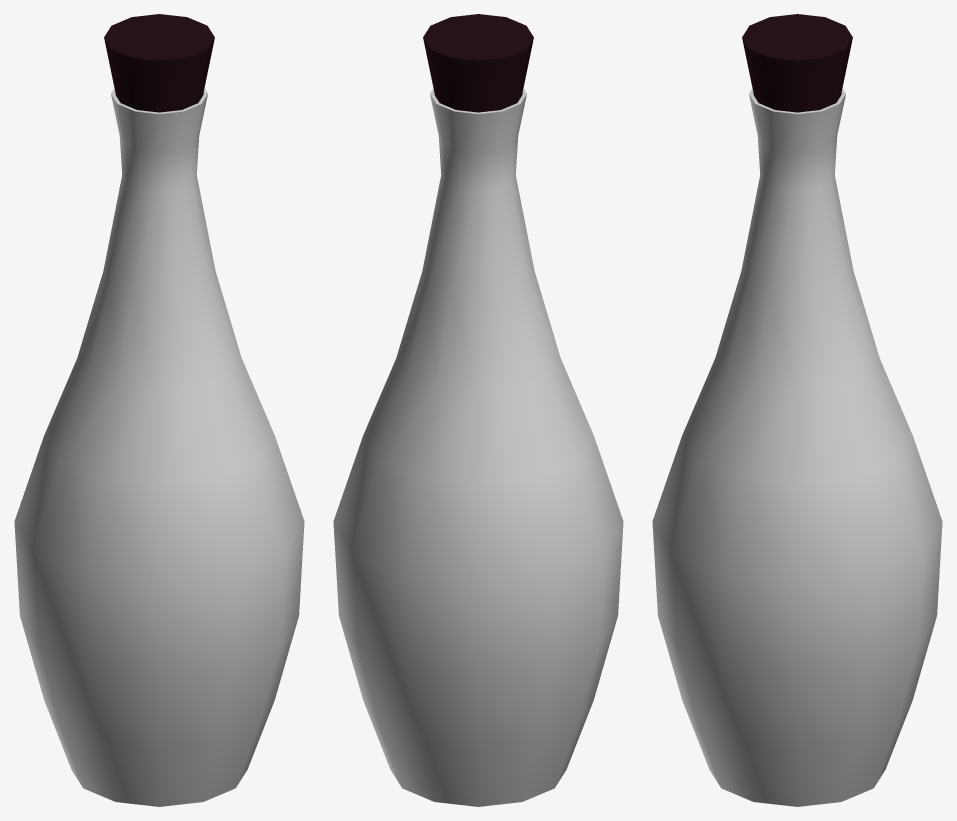
Rendered from flaska5.obj.
3 views of the same model, side by side, from view 1: azimuth 30°, elevation 25°; view 2: azimuth 150°, elevation 25°; view 3: azimuth 270°, elevation 25° (orthographic).
Visible parts, largest first — view 1: flaska4; view 2: flaska4; view 3: flaska4.
Part boxes in pixels (x1,y1,x2,y2): flaska4: (14, 14, 304, 806); flaska4: (333, 14, 623, 806); flaska4: (652, 14, 942, 806).
Bounding box in the file's own units: 0.4697 × 1.31 × 0.4697.
